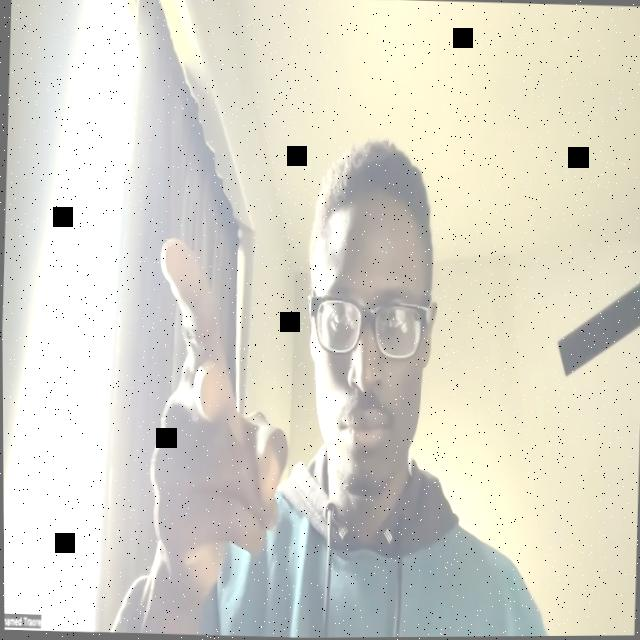Scissors: (144, 235, 295, 602)
